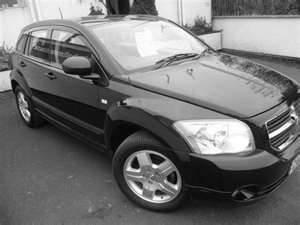car: (8, 10, 300, 215)
